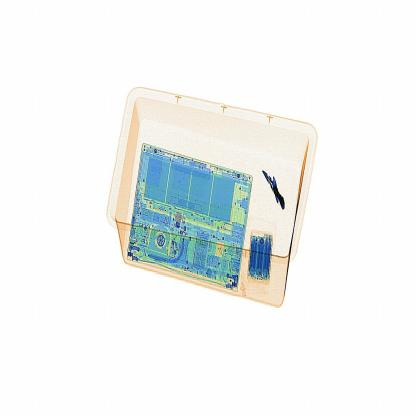wrench: (255, 161, 291, 216)
